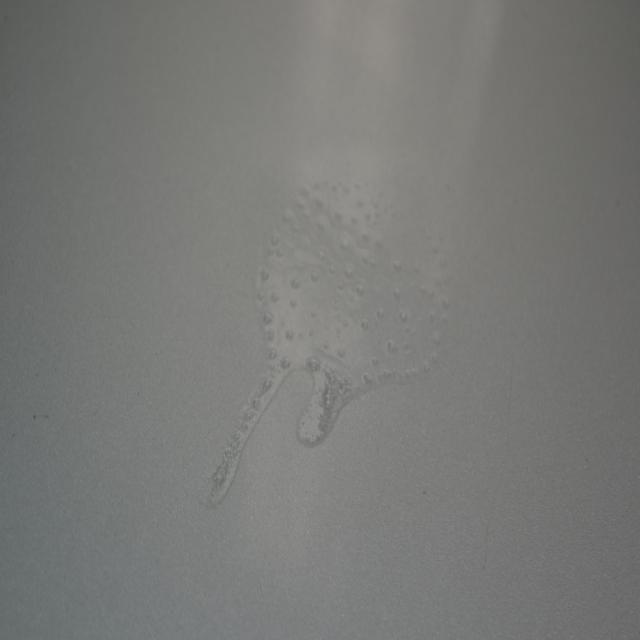runs: (191, 127, 478, 524)
